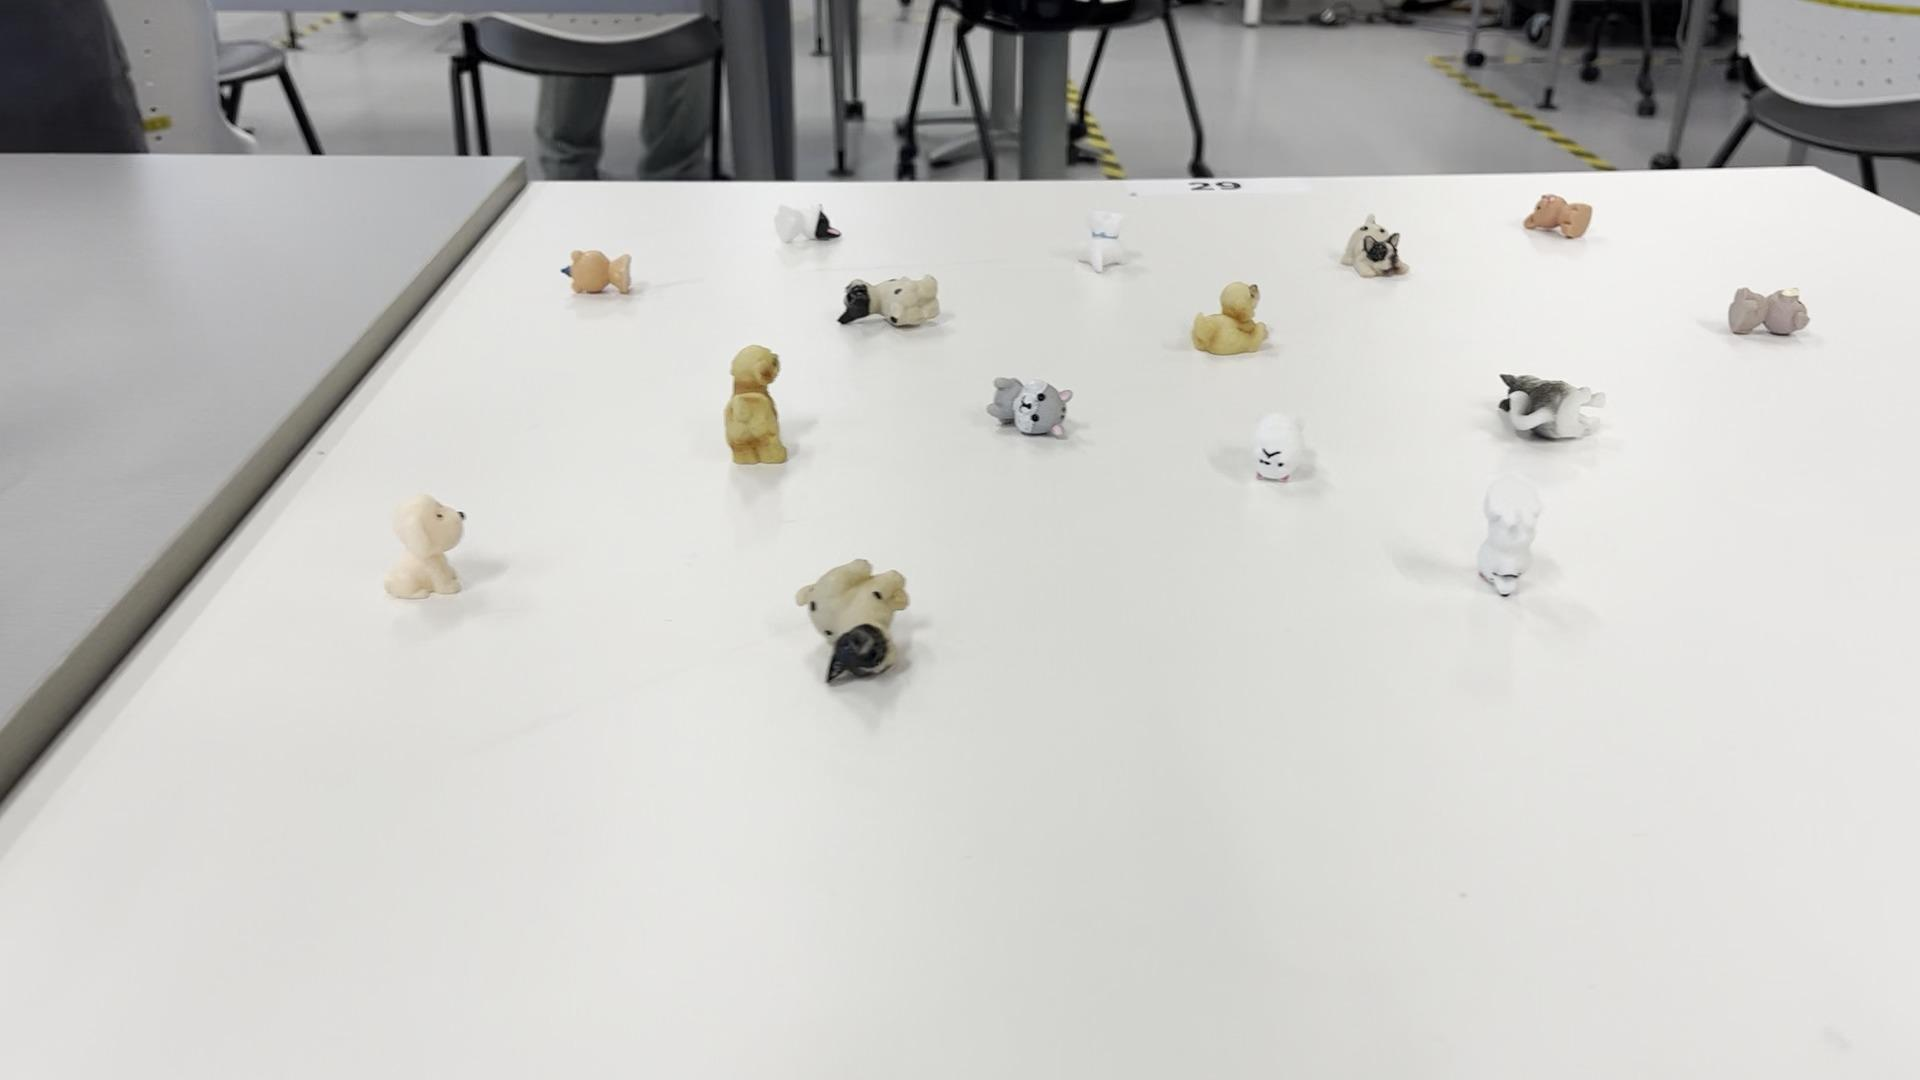pet: (787, 553, 914, 670), (385, 485, 469, 620), (717, 339, 796, 475), (1487, 365, 1607, 452), (837, 269, 956, 340), (1195, 276, 1278, 364), (1341, 215, 1420, 298), (1485, 479, 1538, 601), (555, 236, 650, 302), (1721, 282, 1813, 347), (975, 372, 1087, 425), (1515, 186, 1596, 257), (765, 195, 843, 257), (1077, 199, 1121, 293), (1245, 402, 1294, 484)
